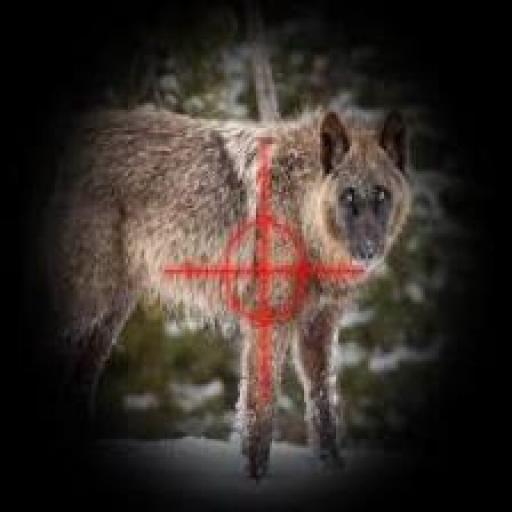wolf: (16, 73, 462, 512)
